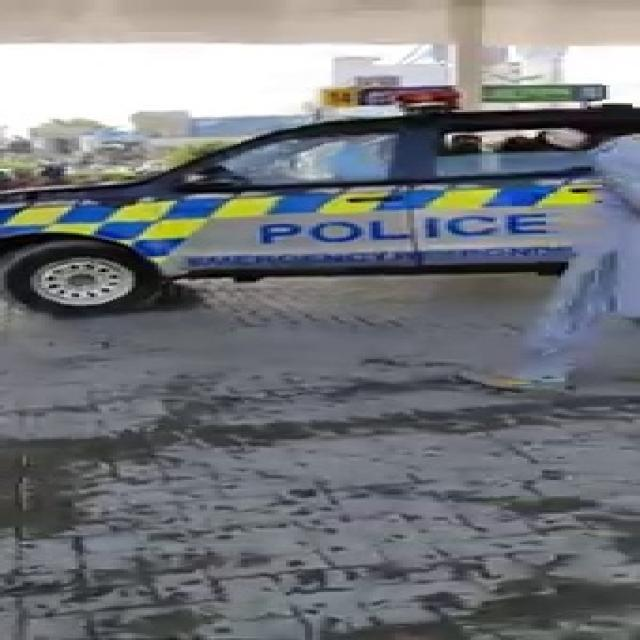police: (0, 62, 640, 277)
